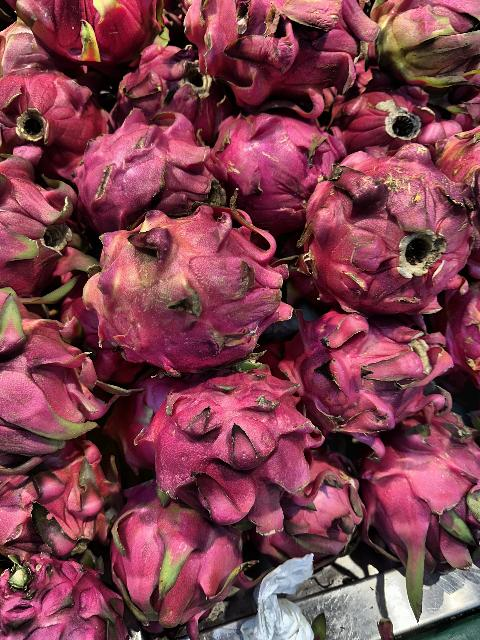buah-naga-belum-matang: (84, 208, 286, 356), (368, 1, 480, 88)
buah-naga-matang: (288, 152, 480, 306), (142, 367, 324, 521), (285, 296, 449, 440), (346, 428, 480, 582), (176, 0, 366, 106), (100, 481, 242, 613), (0, 284, 98, 466), (64, 120, 220, 220), (0, 148, 94, 308), (206, 97, 324, 213), (0, 438, 112, 554), (0, 552, 130, 640), (0, 57, 108, 151), (328, 86, 450, 162)
